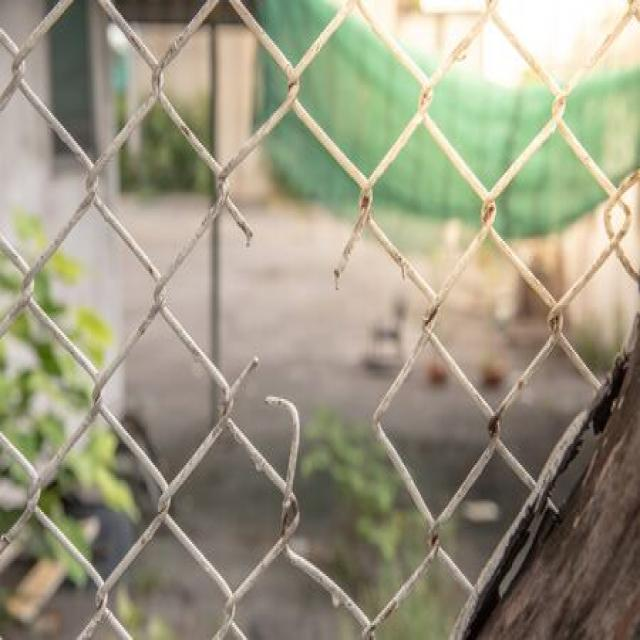fence line: (153, 123, 454, 624)
